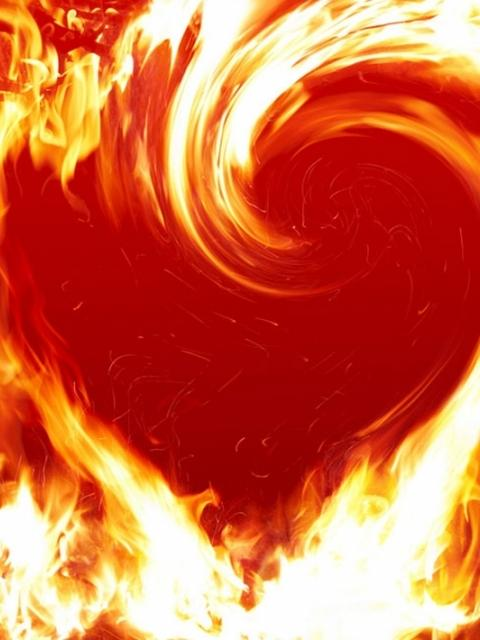fire: (35, 412, 457, 635)
